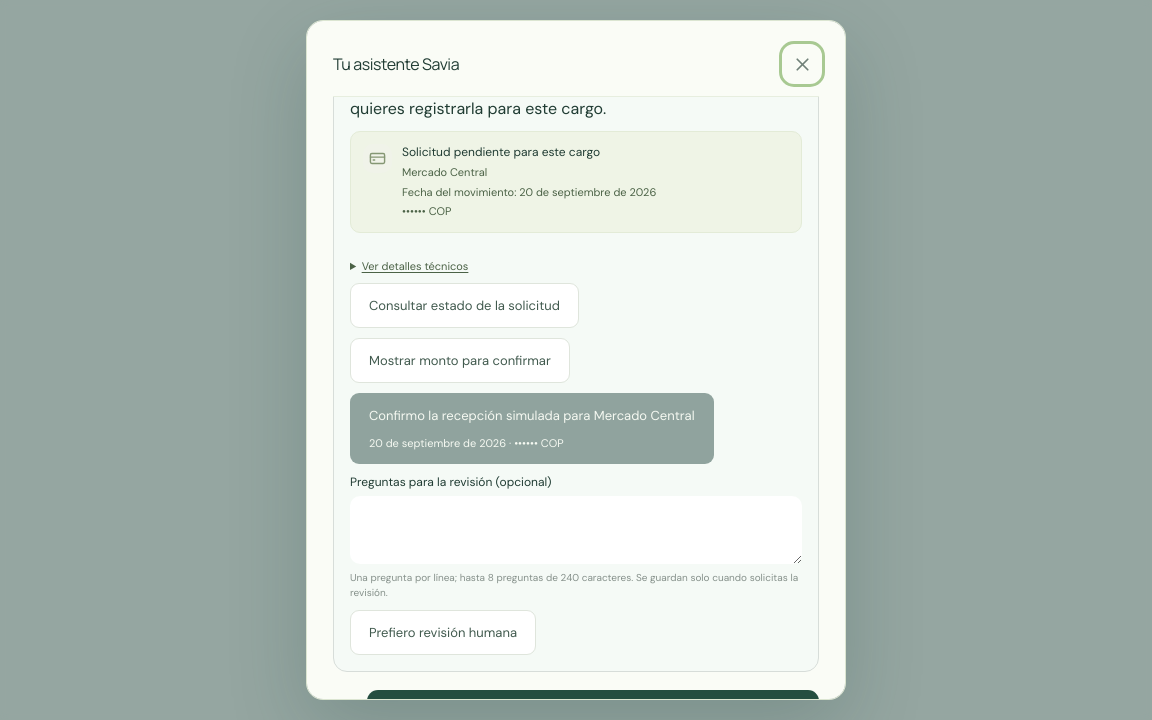
it: hidden amount requires a local review before explicit consent
(page scrolled)
Expected: the button "Consultar estado de la solicitud" is enabled, [350,283,579,328]
Expected: the button "Confirmo la recepción simulada" is disabled, [350,393,714,464]
Click the button "Mostrar monto para confirmar" at (460, 360), box [350,338,570,383]
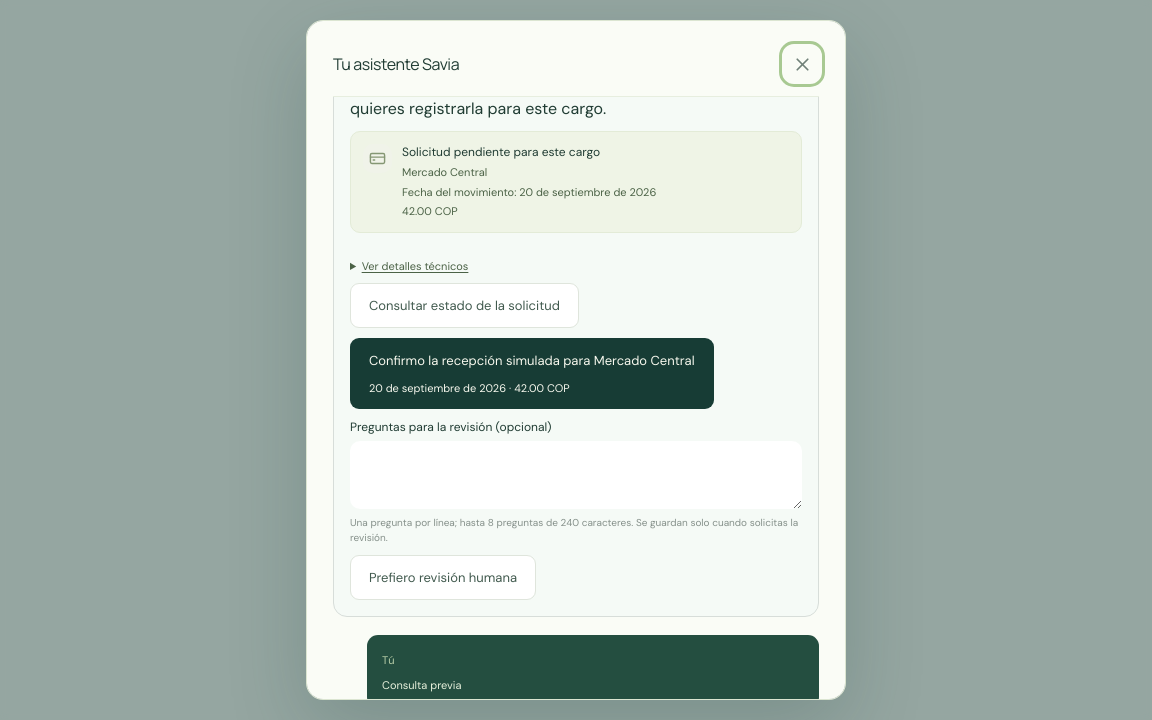
Now the button "Confirmo la recepción simulada" is enabled, box [350,338,714,409]
